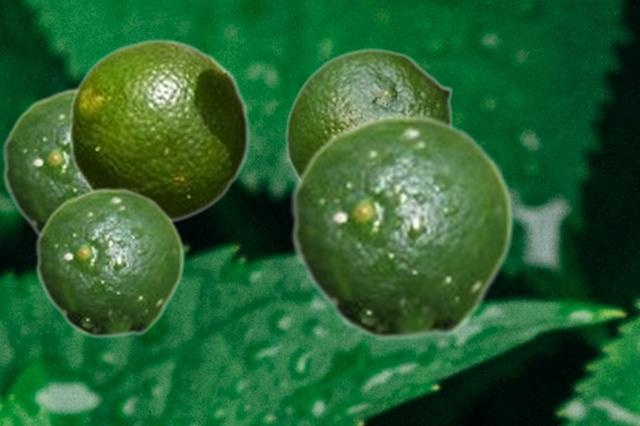calamansi: (290, 113, 514, 341), (67, 38, 250, 222), (35, 187, 184, 338), (285, 48, 453, 178), (2, 87, 87, 235)
